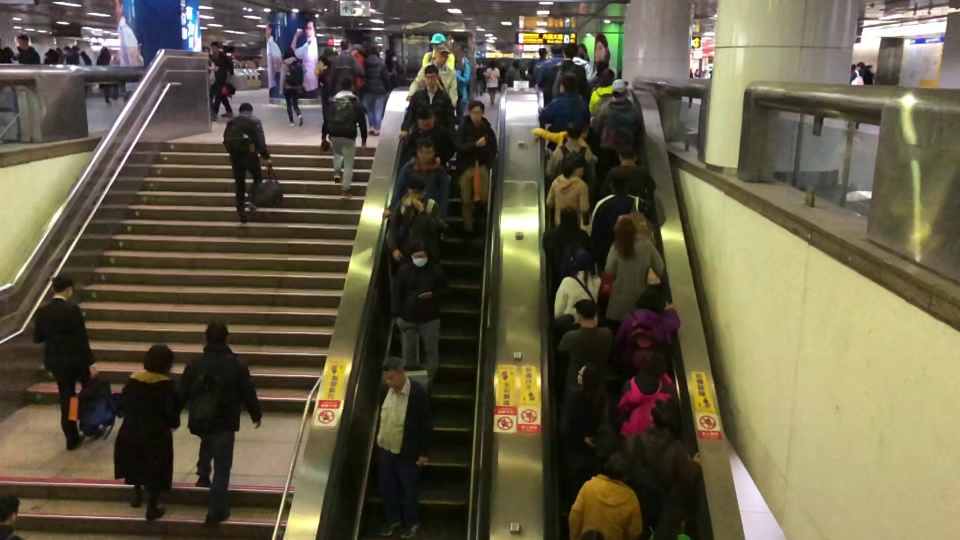person_head: (612, 217, 638, 261), (143, 343, 175, 374), (632, 285, 666, 313), (603, 451, 632, 483), (381, 355, 406, 392), (576, 361, 603, 395), (637, 349, 666, 380), (572, 299, 598, 327), (650, 404, 676, 432), (607, 167, 632, 196), (203, 323, 229, 350), (569, 248, 594, 276), (407, 239, 430, 269), (562, 155, 589, 179), (415, 135, 435, 164), (406, 173, 427, 200), (52, 275, 74, 300), (610, 78, 631, 102), (617, 144, 638, 166), (559, 206, 579, 229), (415, 108, 435, 130), (428, 32, 448, 53), (467, 100, 485, 123), (423, 64, 439, 89), (559, 72, 577, 94), (574, 117, 590, 139), (434, 43, 449, 66), (599, 67, 616, 87), (562, 42, 579, 61), (566, 121, 582, 141), (451, 48, 464, 71), (323, 45, 338, 61), (16, 33, 30, 49), (339, 76, 353, 92), (282, 46, 296, 61), (238, 102, 254, 115), (596, 60, 609, 75), (550, 43, 563, 57), (340, 38, 352, 52), (855, 60, 867, 72), (44, 47, 58, 57), (575, 45, 585, 59), (351, 43, 363, 54), (538, 47, 548, 59), (210, 41, 219, 54), (369, 44, 377, 55), (489, 59, 497, 69), (72, 46, 80, 54)
person_vbox: (177, 321, 262, 523), (113, 343, 182, 519), (33, 274, 99, 449), (376, 355, 433, 539), (623, 405, 704, 519), (391, 241, 444, 393), (385, 174, 448, 297), (597, 217, 665, 322), (564, 451, 643, 540), (557, 299, 613, 423), (587, 172, 659, 265), (383, 135, 451, 227), (222, 101, 272, 223), (614, 285, 681, 376), (455, 100, 498, 240), (556, 361, 607, 477), (612, 349, 676, 440), (325, 76, 368, 199), (592, 79, 645, 173), (398, 62, 455, 141), (537, 73, 590, 152), (544, 206, 591, 290), (406, 45, 464, 111), (552, 247, 601, 324), (545, 153, 592, 231), (545, 120, 599, 186), (596, 144, 656, 201), (406, 109, 457, 169), (314, 45, 338, 151), (545, 42, 587, 100), (363, 44, 389, 136), (208, 39, 236, 122), (278, 47, 305, 127), (328, 39, 365, 94), (531, 120, 590, 154), (849, 60, 874, 131), (449, 48, 471, 124), (539, 43, 565, 93), (589, 67, 615, 117), (423, 32, 455, 70), (13, 33, 41, 65), (588, 60, 609, 101), (349, 42, 367, 89), (482, 60, 500, 107), (532, 46, 552, 86), (572, 45, 593, 79), (62, 46, 86, 66), (42, 48, 61, 64)
